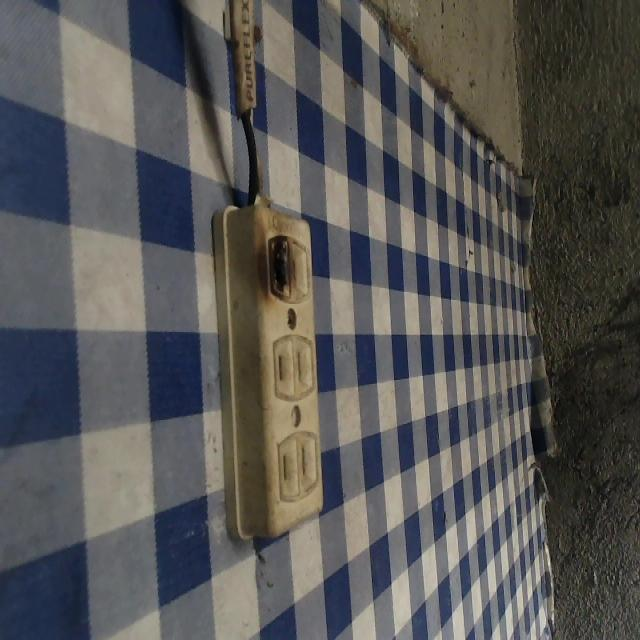-: (257, 226, 299, 314)
